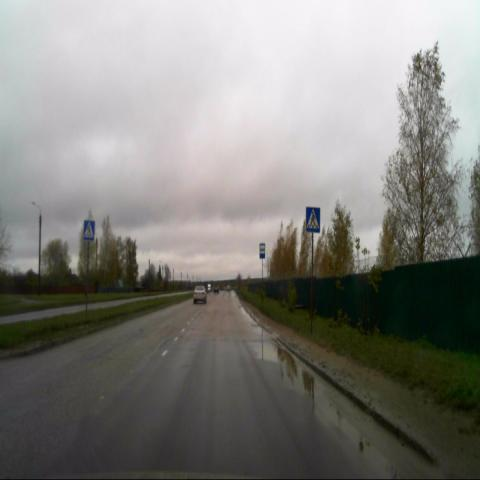5_16: (259, 241, 266, 260)
5_19_1: (306, 206, 320, 233), (82, 219, 96, 241)
